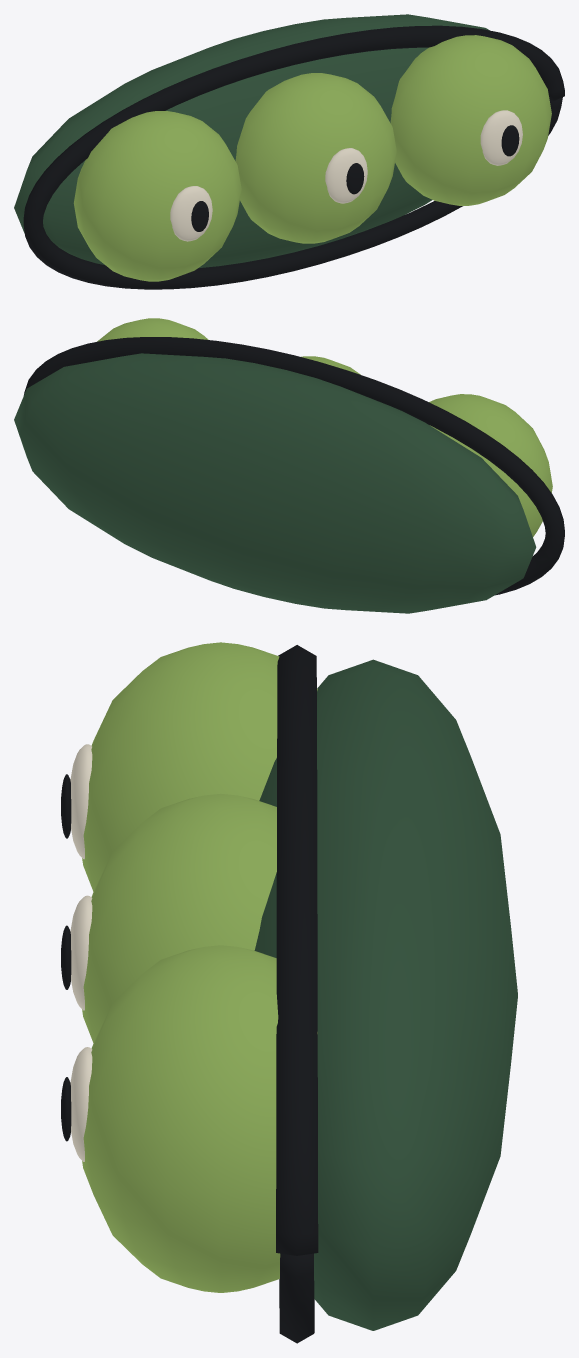
File: triple.glb
The picture shows the model from 3 angles, top to bottom: view 1: azimuth 30°, elevation 25°; view 2: azimuth 150°, elevation 25°; view 3: azimuth 270°, elevation 25°; orthographic projection. The views are drawn at different scales.
Parts seen in each view (by area): view 1: triple_Game; view 2: triple_Game; view 3: triple_Game.
Boxes of the visible parts, <box> form: triple_Game: <box>14,14,564,289</box>; triple_Game: <box>14,318,564,613</box>; triple_Game: <box>61,642,517,1343</box>.
Size of the model in its own units: 1.64 by 0.6576 by 0.6.
